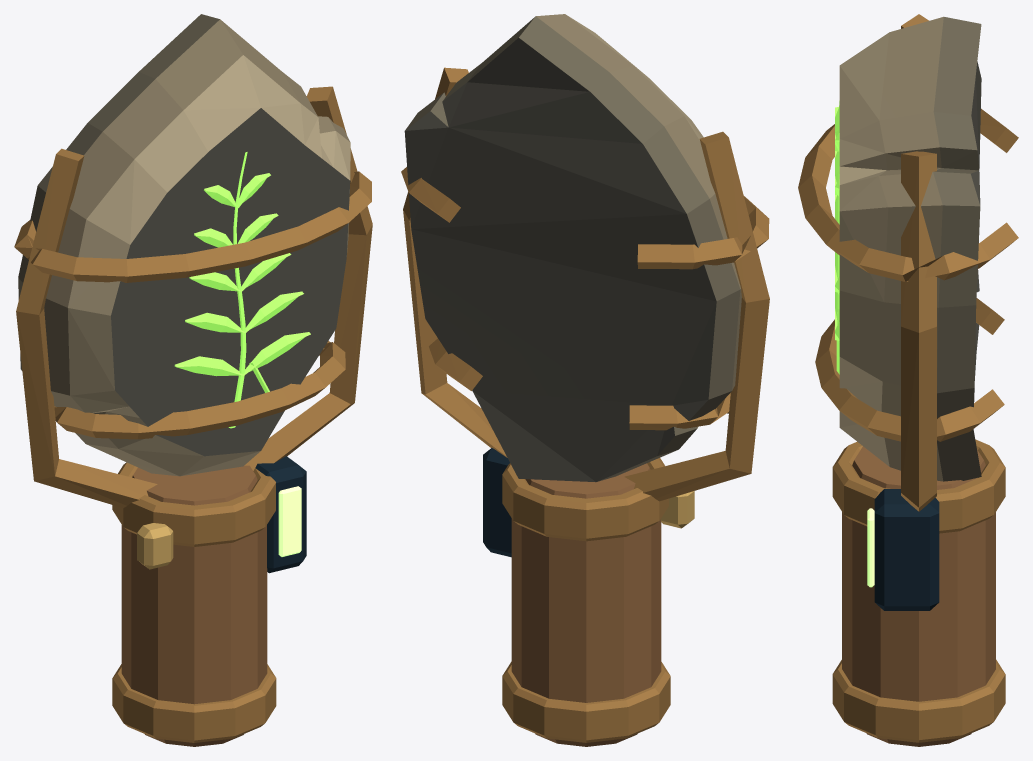
File: KEEPSTONE_TOOL.lo.glb
The picture shows the model from 3 angles, left to right: view 1: azimuth 30°, elevation 25°; view 2: azimuth 150°, elevation 25°; view 3: azimuth 270°, elevation 25°; orthographic projection. The views are drawn at different scales.
Parts seen in each view (by area): view 1: Body_Mesh; view 2: Body_Mesh; view 3: Body_Mesh.
Boxes of the visible parts, bbox=[...] form: Body_Mesh: bbox=[14, 14, 372, 746]; Body_Mesh: bbox=[401, 14, 769, 746]; Body_Mesh: bbox=[798, 14, 1018, 746].
Bounding box in the file's own units: 0.181 × 0.3324 × 0.0919.
1 material, 1 textured.
